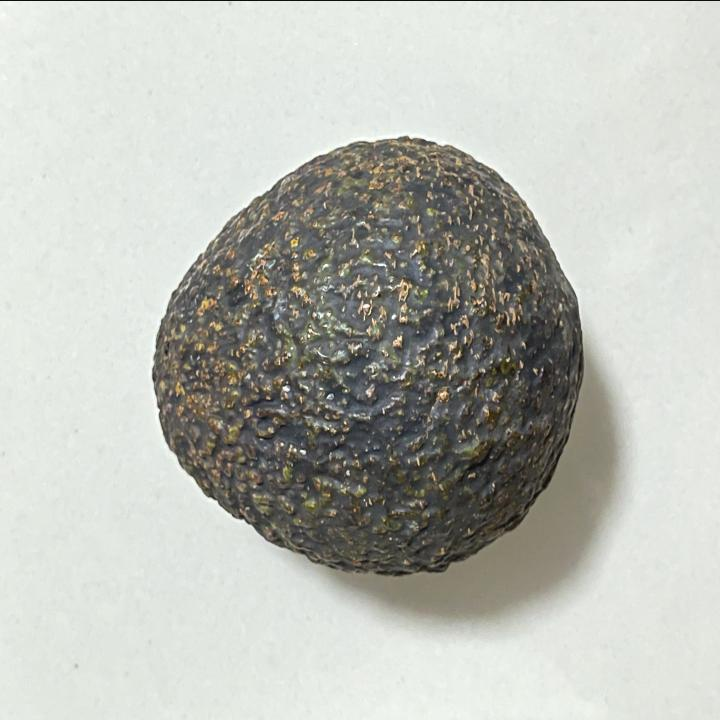Level2: (143, 126, 589, 584)
